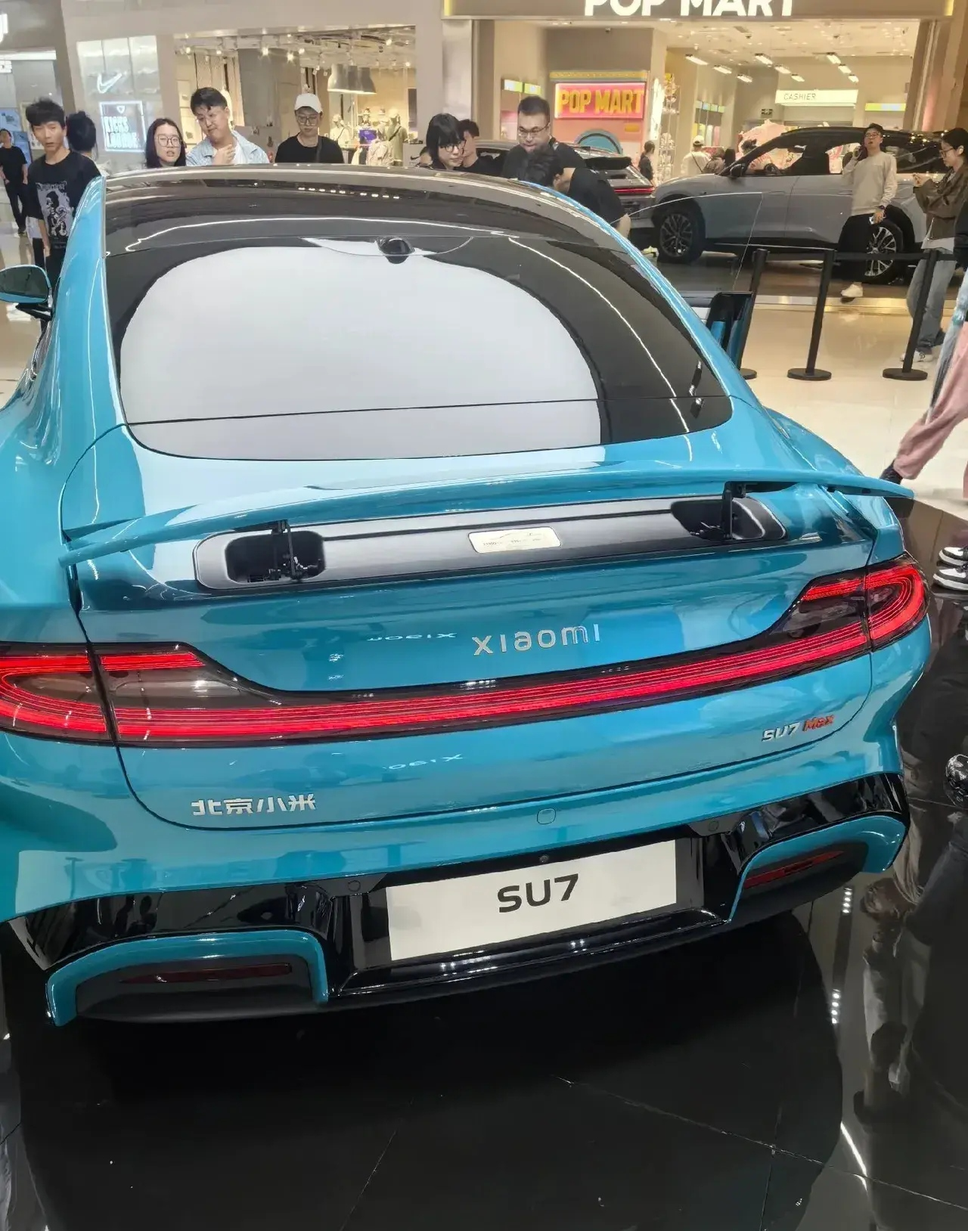other: (641, 120, 968, 274)
su7: (25, 166, 960, 1047)
